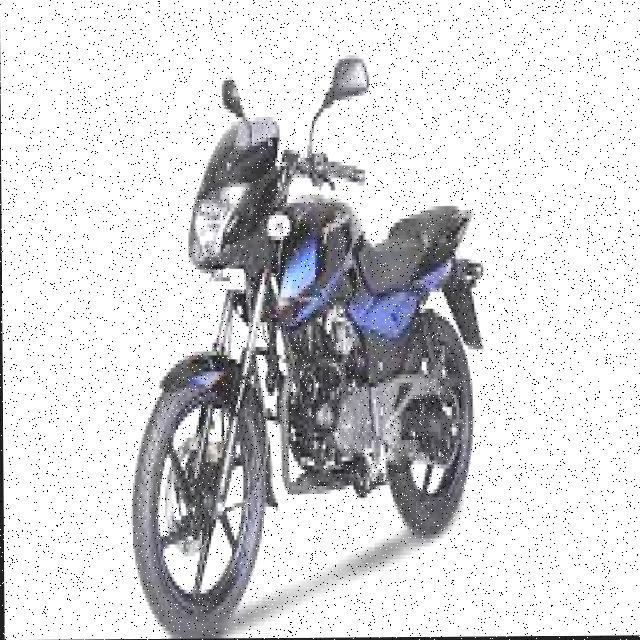bike: (95, 71, 487, 639)
